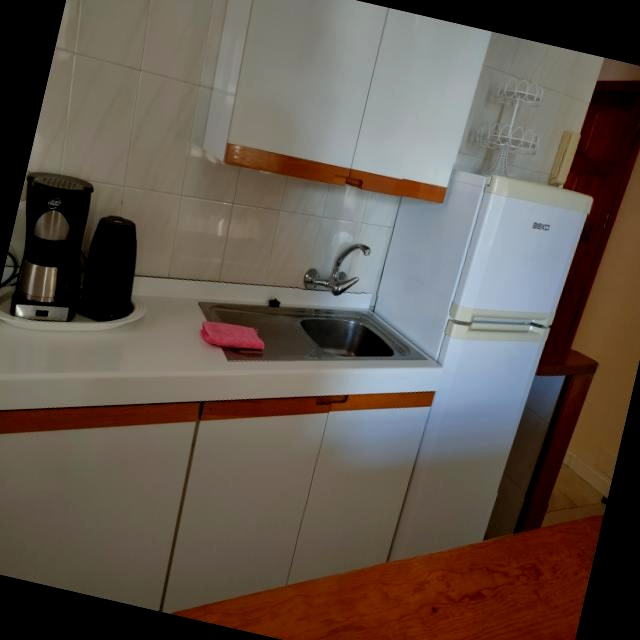cabinet: (0, 392, 435, 614), (201, 0, 492, 205)
countertop: (0, 277, 442, 411), (175, 517, 603, 640)
fridge: (372, 168, 591, 563)
shower: (198, 303, 429, 363), (304, 244, 371, 297)
stove: (515, 349, 598, 532)
